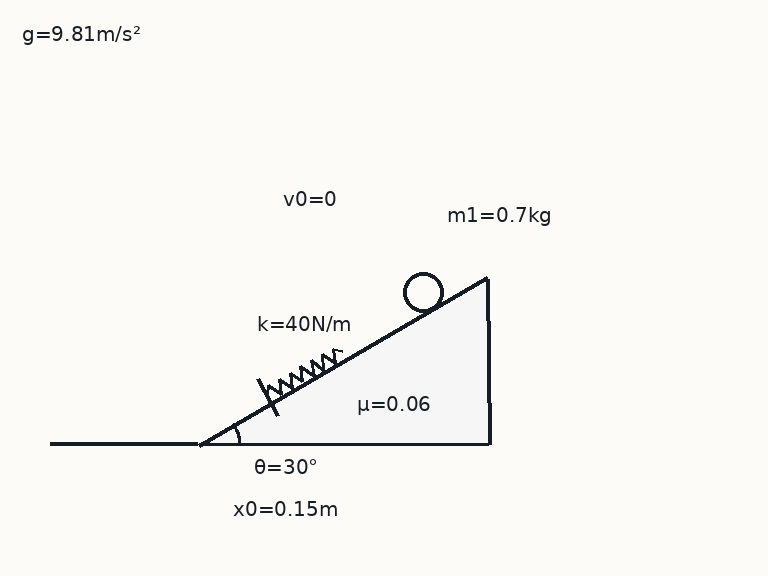ball: (401, 270, 445, 314)
ramp: (197, 275, 489, 446)
spring: (265, 346, 344, 397)
